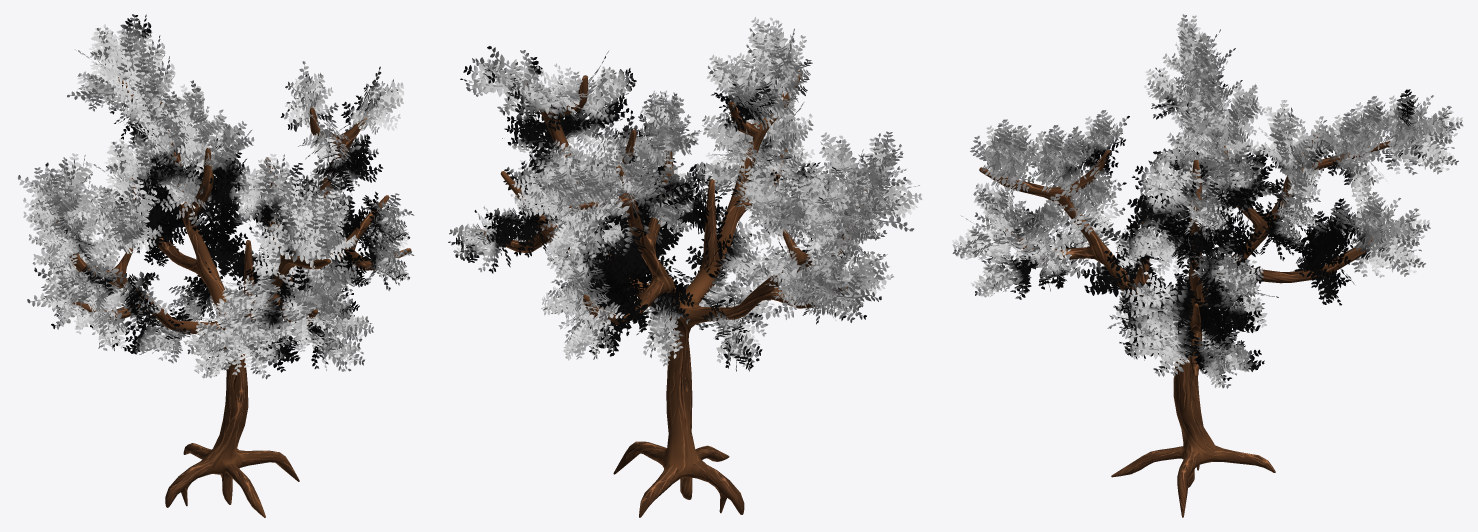
Rendered from Tree.fbx.
3 views of the same model, side by side, from view 1: azimuth 30°, elevation 25°; view 2: azimuth 150°, elevation 25°; view 3: azimuth 270°, elevation 25° (orthographic). The views are drawn at different scales.
Visible parts, largest first — view 1: Plane.202, Tree.001; view 2: Plane.202, Tree.001; view 3: Plane.202, Tree.001.
Part boxes in pixels (<box>): Plane.202: <box>18,14,414,379</box>; Tree.001: <box>56,77,411,517</box>; Plane.202: <box>448,17,922,371</box>; Tree.001: <box>478,70,867,517</box>; Plane.202: <box>952,14,1463,388</box>; Tree.001: <box>979,95,1390,517</box>.
Bounding box in the file's own units: 1421 × 1384 × 1576.
